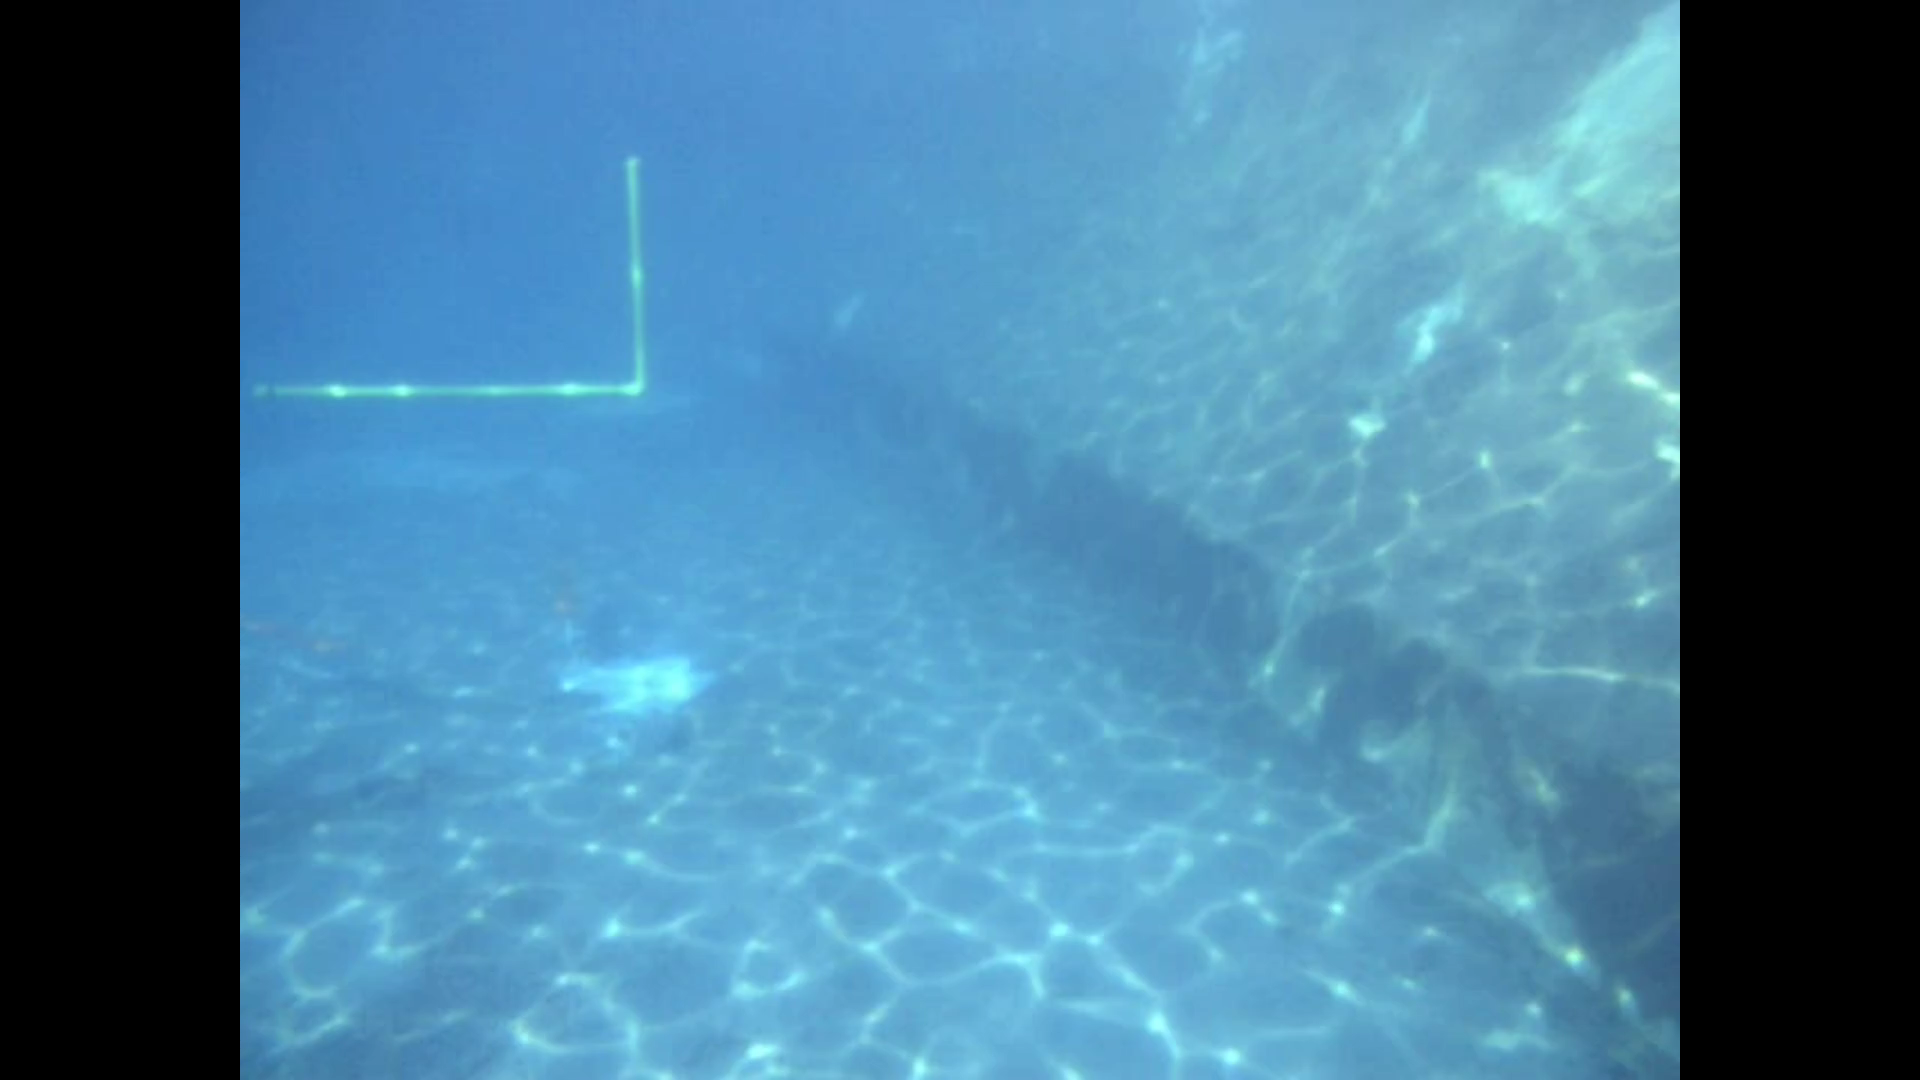gate: (248, 149, 649, 400)
